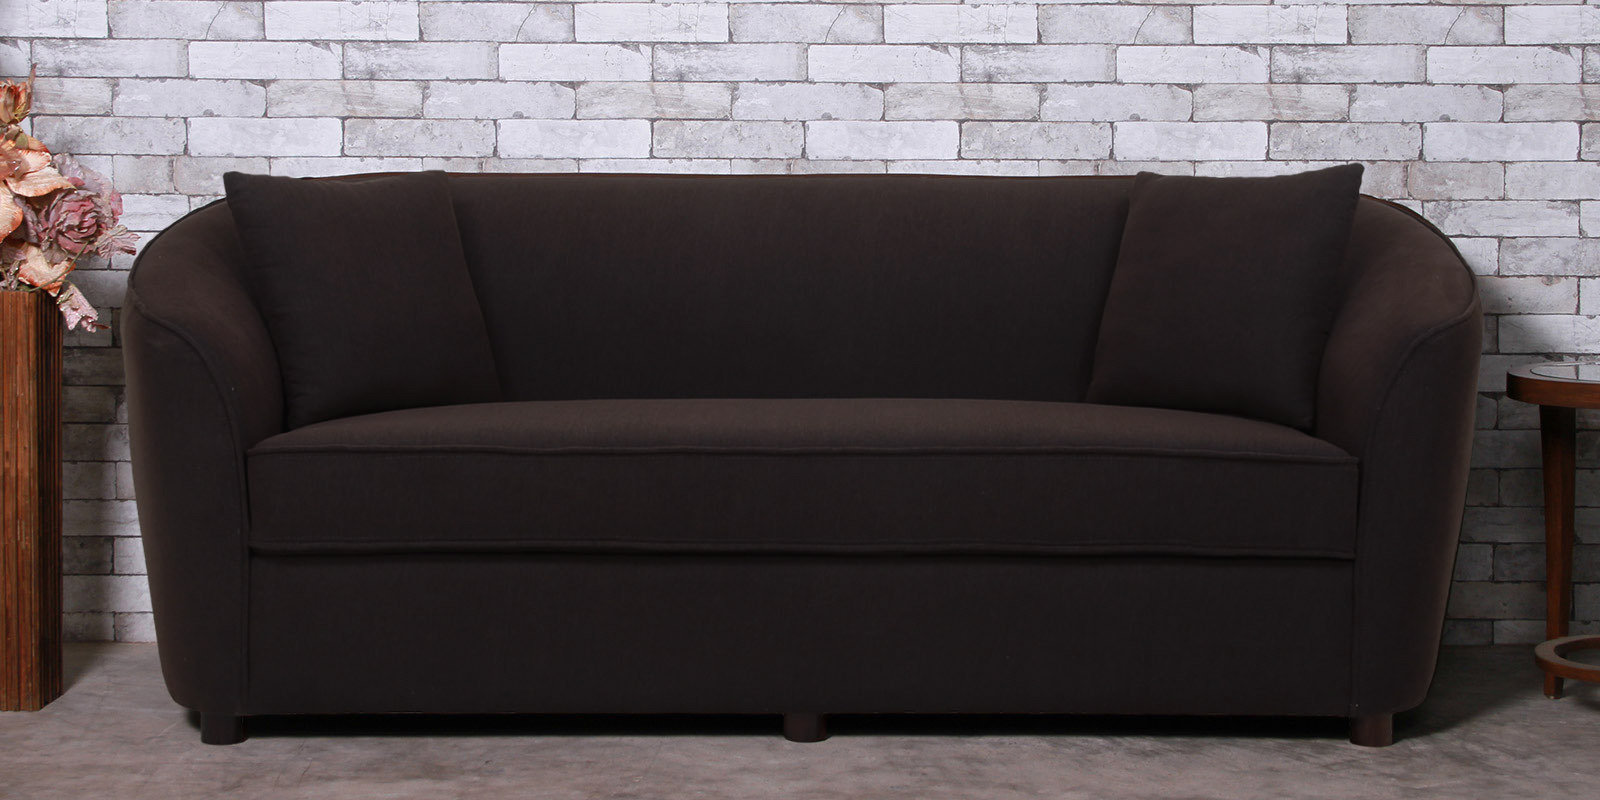Mamore Three Seater Sofa in Chestnut Brown Color by CasaCraft: (121, 159, 1482, 741)
